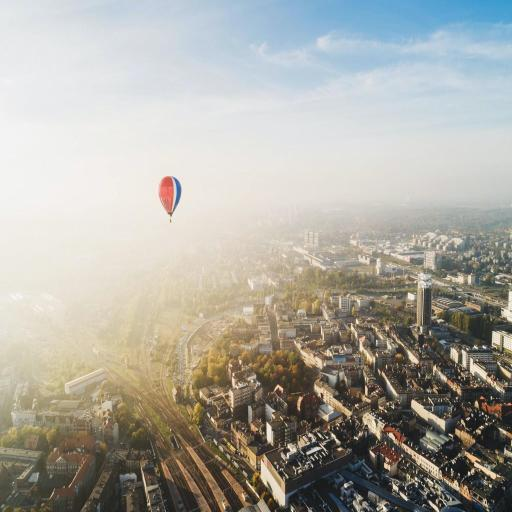hot air ballon: (158, 175, 182, 223)
